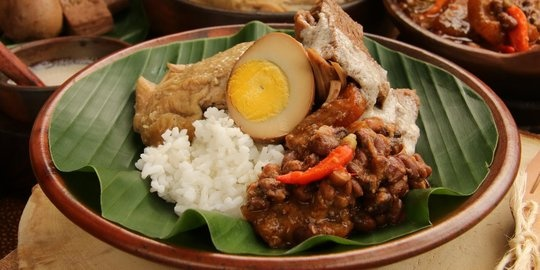gudeg: (135, 32, 432, 251)
